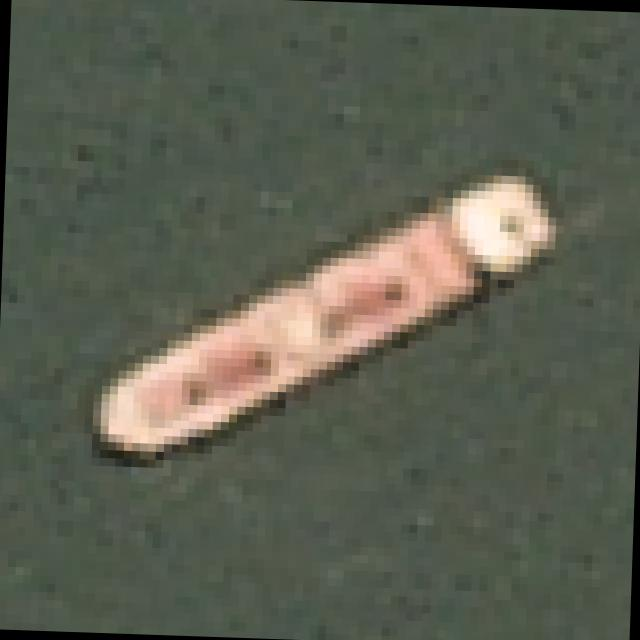ship: (60, 93, 581, 500)
